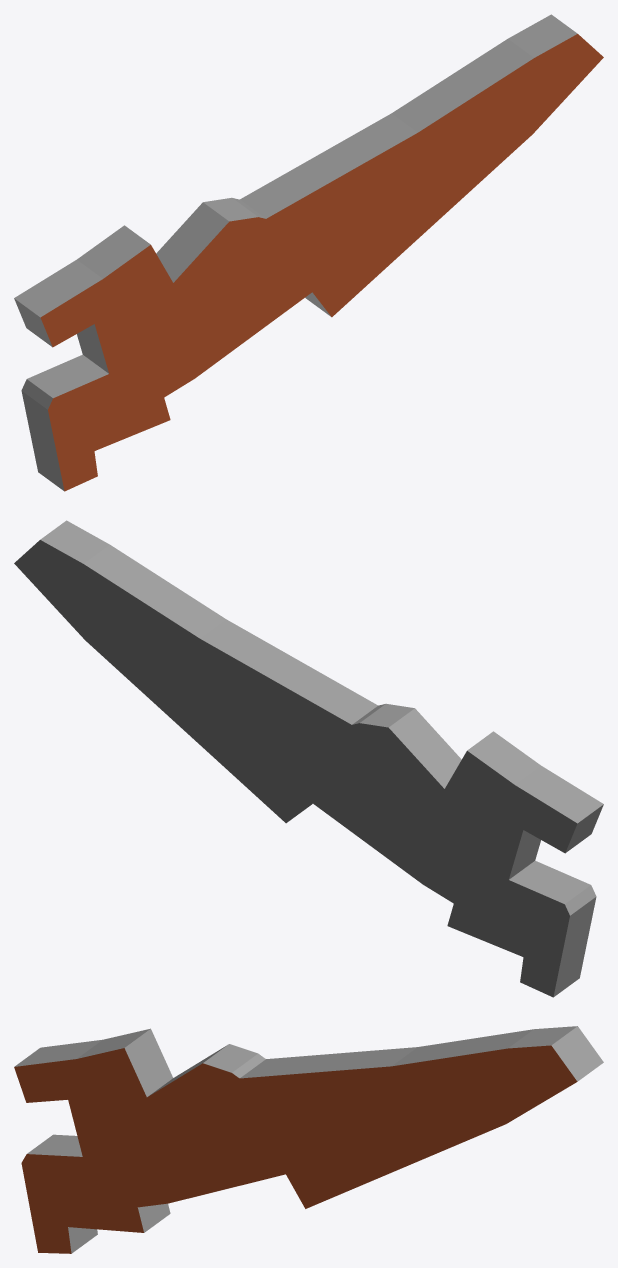
File: construction_4782_assumed_A_Casa_h6m.obj
The picture shows the model from 3 angles, top to bottom: view 1: azimuth 30°, elevation 25°; view 2: azimuth 150°, elevation 25°; view 3: azimuth 330°, elevation 25°; orthographic projection.
Visible parts, largest first — view 1: construction_4782_assumed_A_Casa; view 2: construction_4782_assumed_A_Casa; view 3: construction_4782_assumed_A_Casa.
Part boxes in pixels (box(x1,y1,x2,y2)): construction_4782_assumed_A_Casa: box(14, 14, 603, 491); construction_4782_assumed_A_Casa: box(14, 520, 603, 997); construction_4782_assumed_A_Casa: box(14, 1026, 603, 1253).
Size of the model in its own units: 73.84 by 41.64 by 6.
